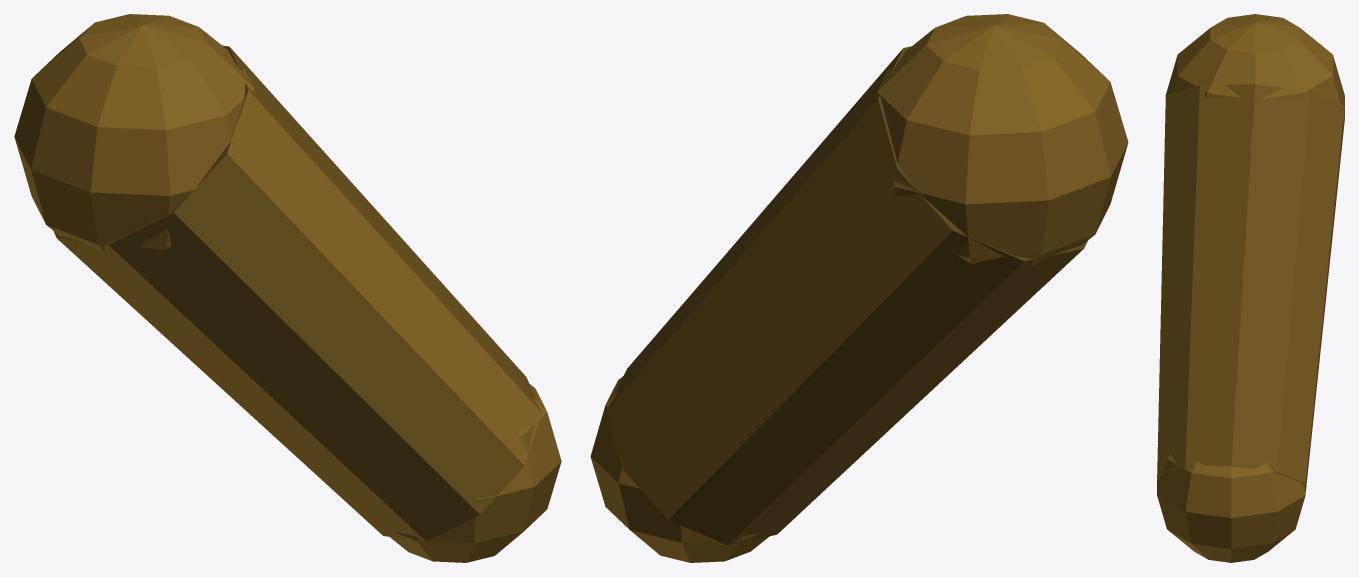
Rendered from SM_triceratops_fore_r_Lower.fbx.
3 renders of one model, left to right at view 1: azimuth 30°, elevation 25°; view 2: azimuth 150°, elevation 25°; view 3: azimuth 270°, elevation 25°, orthographic. The views are drawn at different scales.
Parts seen in each view (by area): view 1: SM_triceratops_fore_r_Lower export; view 2: SM_triceratops_fore_r_Lower export; view 3: SM_triceratops_fore_r_Lower export.
Part boxes in pixels (x1,y1,x2,y2): SM_triceratops_fore_r_Lower export: (14, 14, 561, 562); SM_triceratops_fore_r_Lower export: (590, 14, 1128, 562); SM_triceratops_fore_r_Lower export: (1157, 14, 1344, 562).
Size of the model in its own units: 156 by 69.76 by 176.
